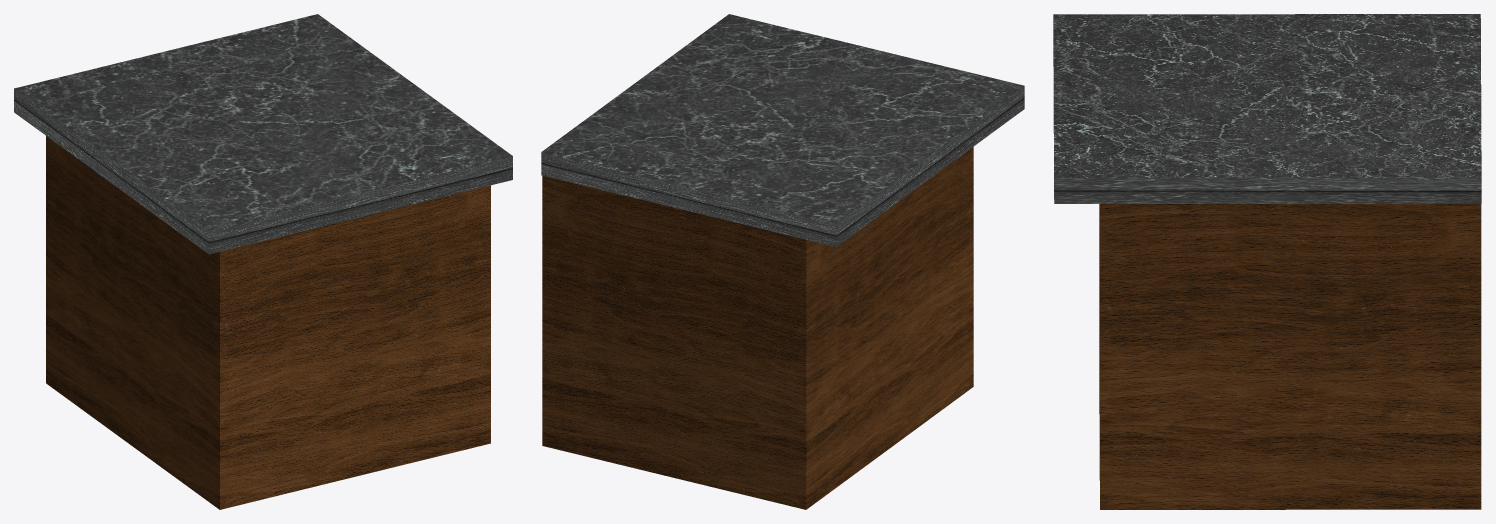
Rendered from KITCHEN_COFFEE_CORNER.glb.
3 views of the same model, side by side, from view 1: azimuth 30°, elevation 25°; view 2: azimuth 150°, elevation 25°; view 3: azimuth 270°, elevation 25° (orthographic). The views are drawn at different scales.
Parts seen in each view (by area): view 1: BODY, BAR; view 2: BODY, BAR; view 3: BODY, BAR.
Boxes of the visible parts, bbox=[...] form: BODY: bbox=[46, 136, 490, 509]; BAR: bbox=[14, 14, 512, 254]; BODY: bbox=[542, 147, 973, 509]; BAR: bbox=[541, 14, 1024, 246]; BODY: bbox=[1099, 203, 1481, 509]; BAR: bbox=[1053, 14, 1481, 203].
Bounding box in the file's own units: 0.8724 × 0.8271 × 0.9644.
Materials: 2 (2 with a texture image).
